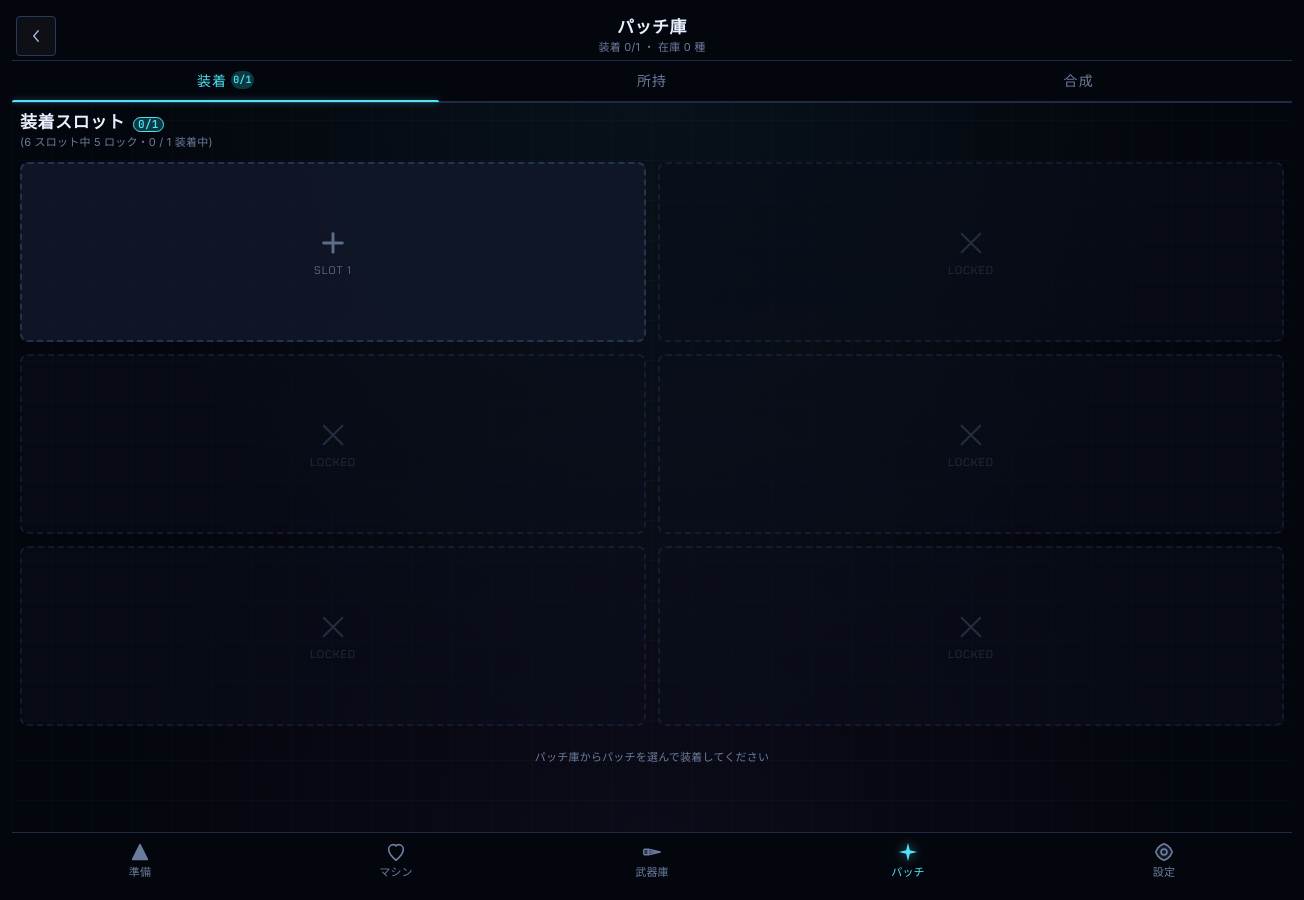
Test: PatchScreen › タブ切替 › 「合成」タブをクリックすると「パッチ合成」が表示される
Click the tab "合成".
click(1079, 81)  # box [865,61,1292,101]
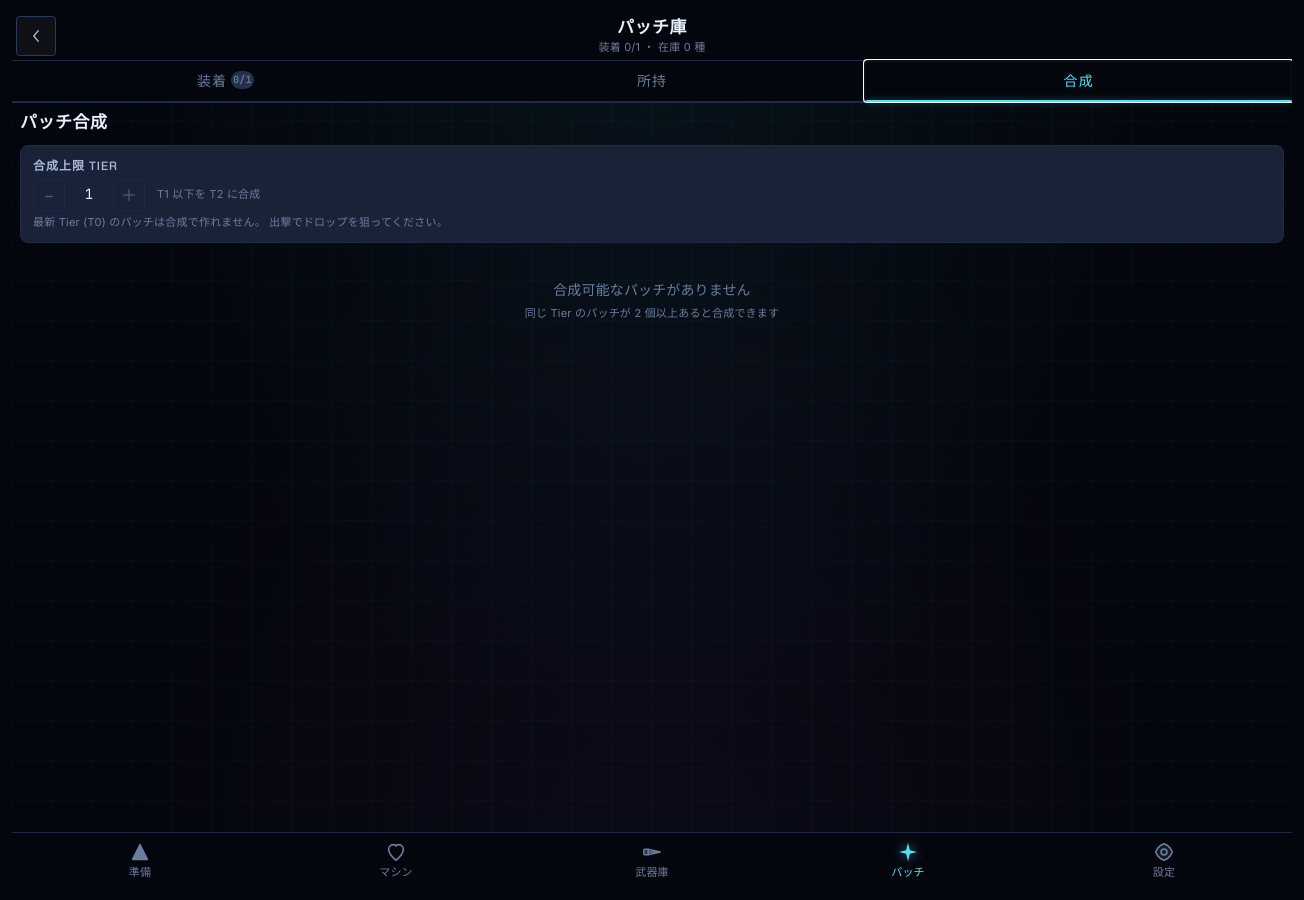
Expected: the heading "パッチ合成" is shown, [20,111,108,133]
